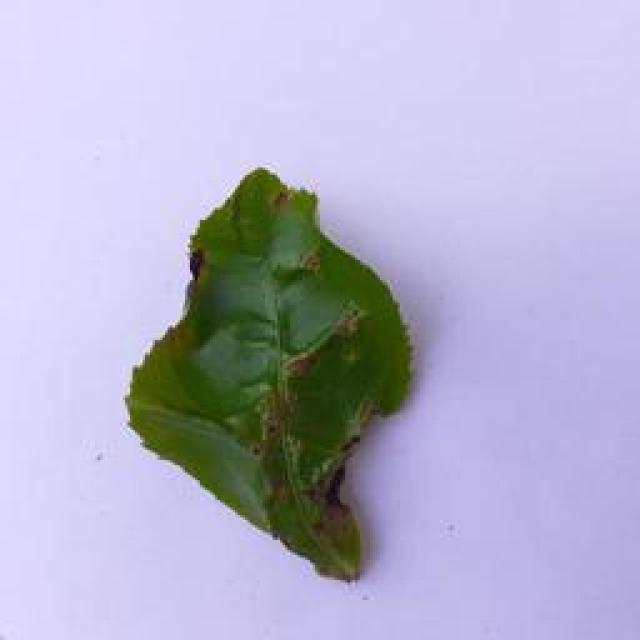Helopeltis: (125, 158, 418, 581)
